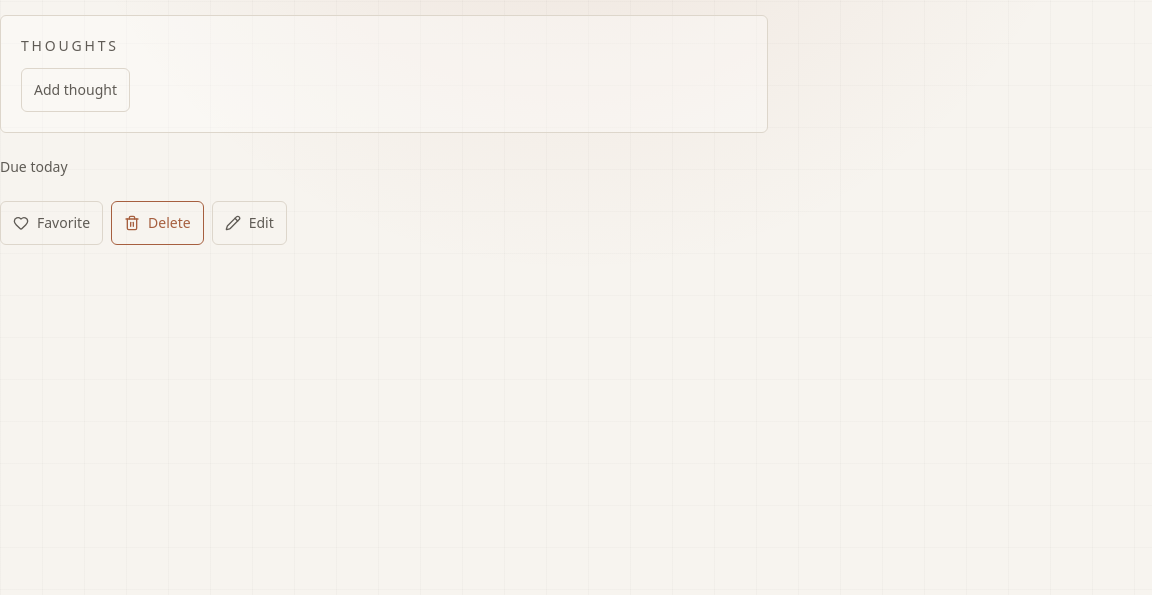
Test: QuoteDetailPage › edit form › returns focus to the Edit button after a successful save
Click the button "Edit" at (249, 223), box top-left (212, 201), bottom-right (287, 245)
(page scrolled)
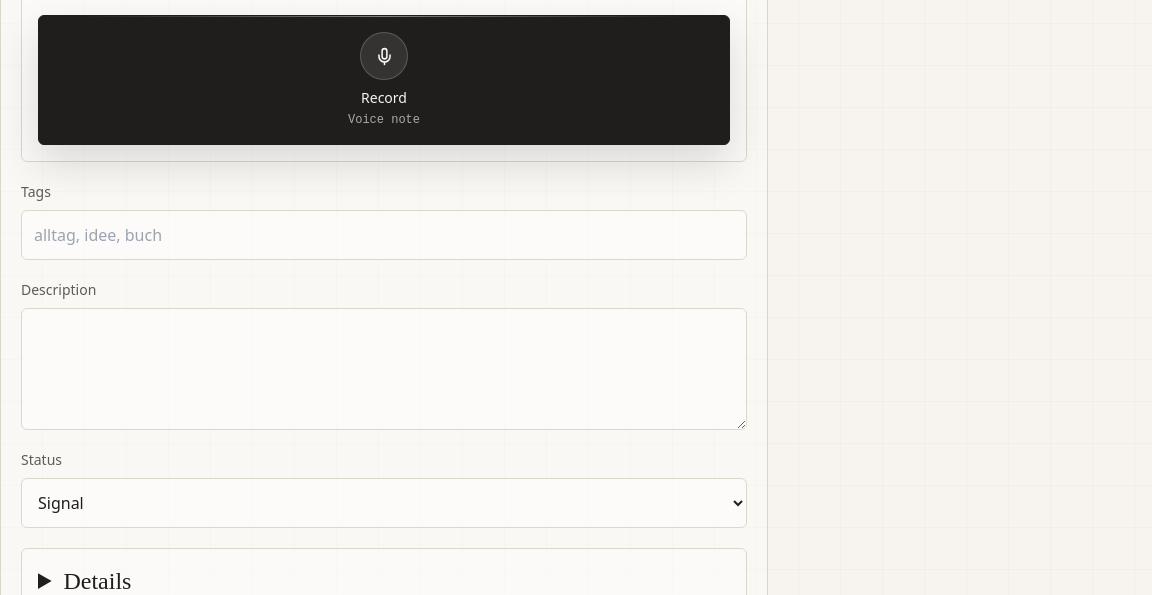
Type "neu" into the field labelled "Tags" at (384, 235), box top-left (21, 210), bottom-right (747, 260)
(page scrolled)
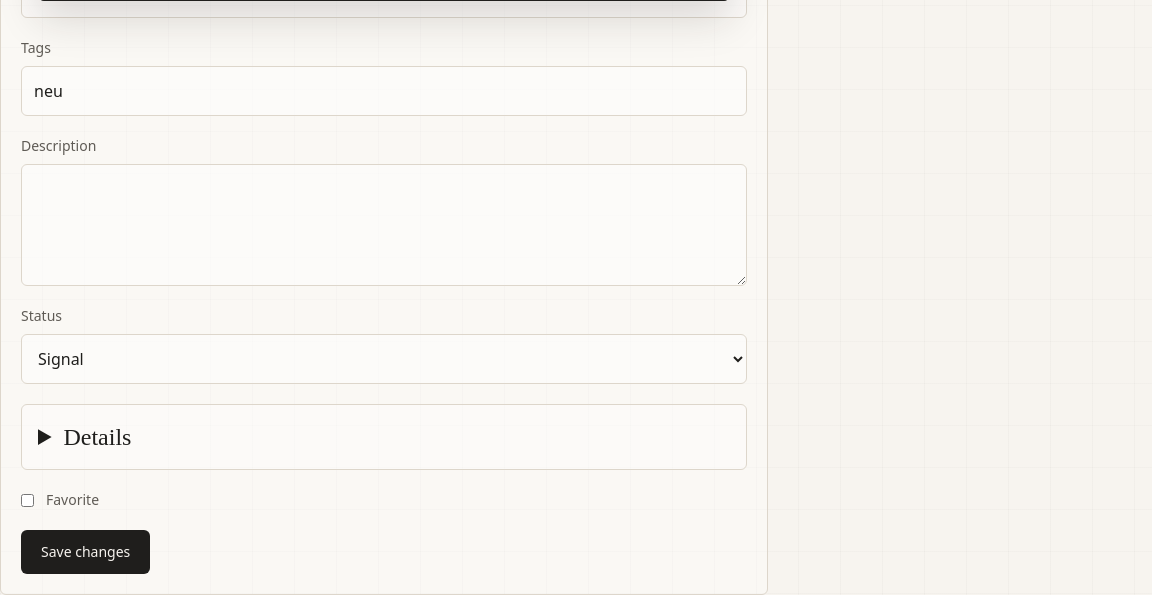
Click the button "Save changes" at (86, 552), box top-left (21, 530), bottom-right (150, 574)
(page scrolled)
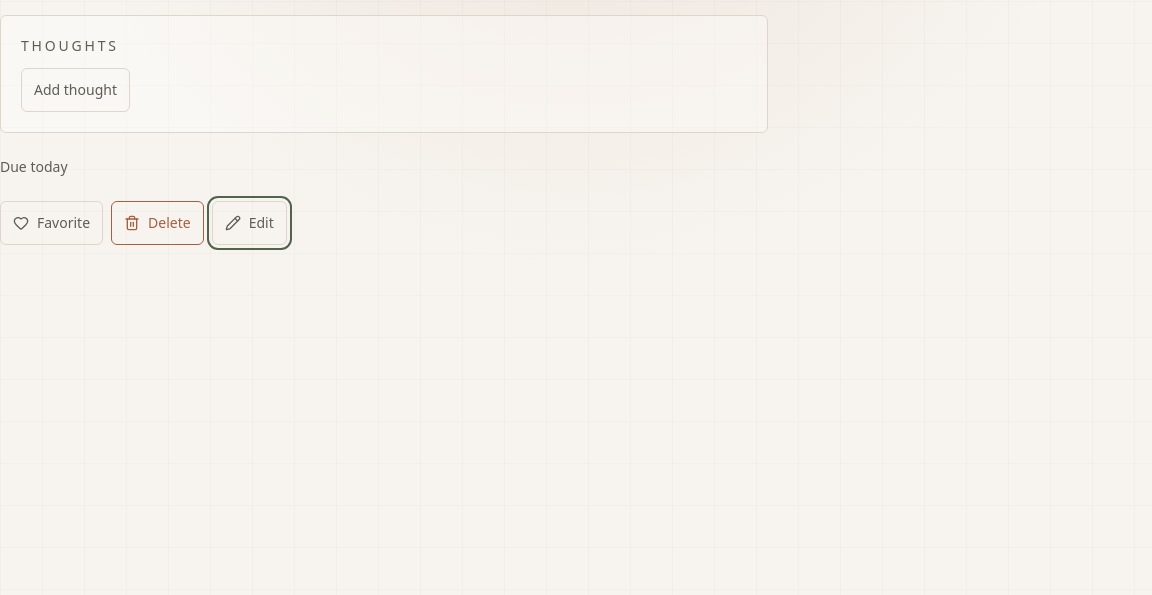
Expected: the text labelled "Tags" is gone
